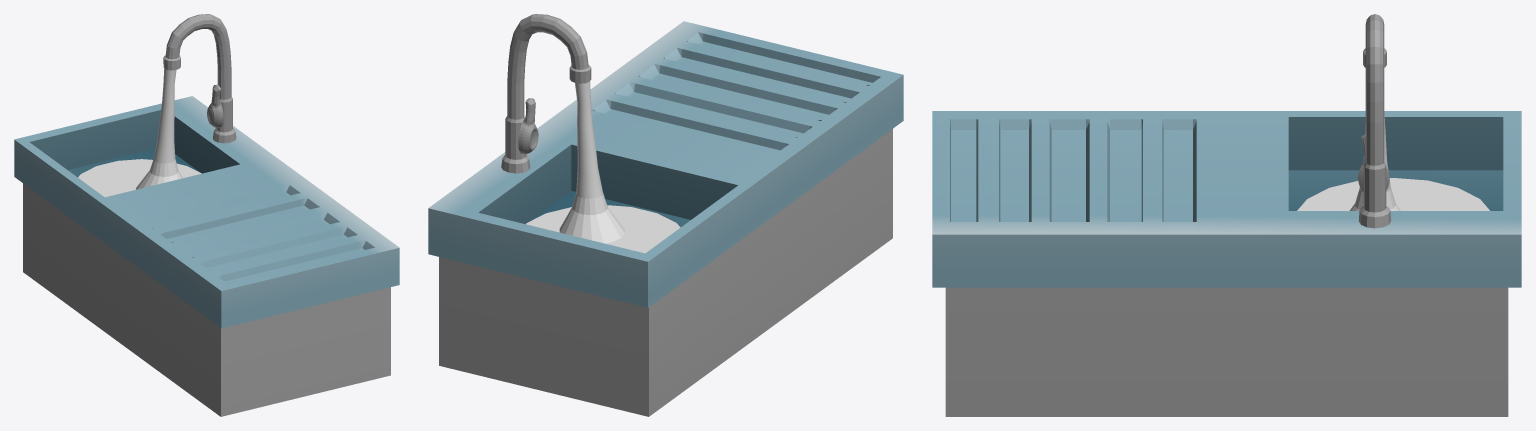
Rendered from vfxgrifo.fbx.
The picture shows the model from 3 angles, left to right: view 1: azimuth 30°, elevation 25°; view 2: azimuth 150°, elevation 25°; view 3: azimuth 270°, elevation 25°; orthographic projection. The views are drawn at different scales.
Visible parts, largest first — view 1: Fregadero, Cylinder001, Cylinder002; view 2: Fregadero, Cylinder001, Cylinder002; view 3: Fregadero, Cylinder002, Cylinder001.
Part boxes in pixels (x1=…): Fregadero: x1=14, y1=14, x2=399, y2=416; Cylinder001: x1=136, y1=69, x2=182, y2=189; Cylinder002: x1=78, y1=159, x2=201, y2=197; Fregadero: x1=428, y1=14, x2=903, y2=416; Cylinder001: x1=559, y1=81, x2=624, y2=243; Cylinder002: x1=526, y1=205, x2=680, y2=253; Fregadero: x1=932, y1=14, x2=1521, y2=416; Cylinder002: x1=1297, y1=178, x2=1489, y2=210; Cylinder001: x1=1349, y1=113, x2=1400, y2=210.
Bounding box in the file's own units: 21.98 × 30.6 × 44.26.
